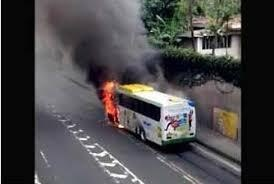fire: (99, 78, 123, 128)
